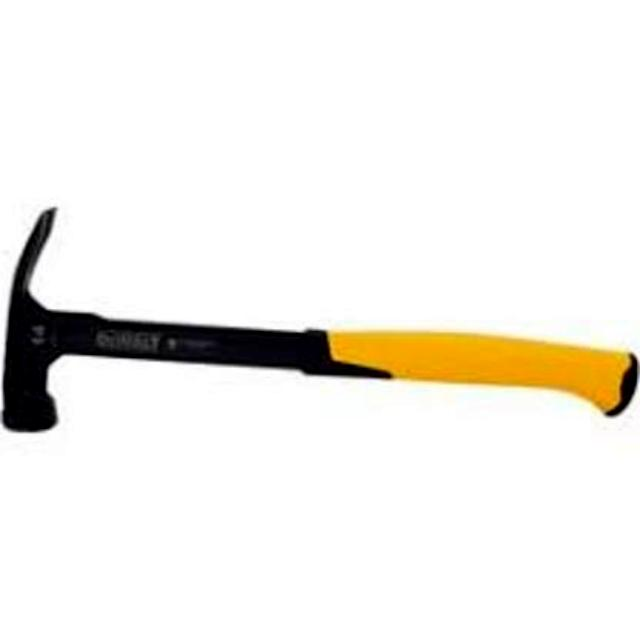hammer: (1, 191, 640, 461)
